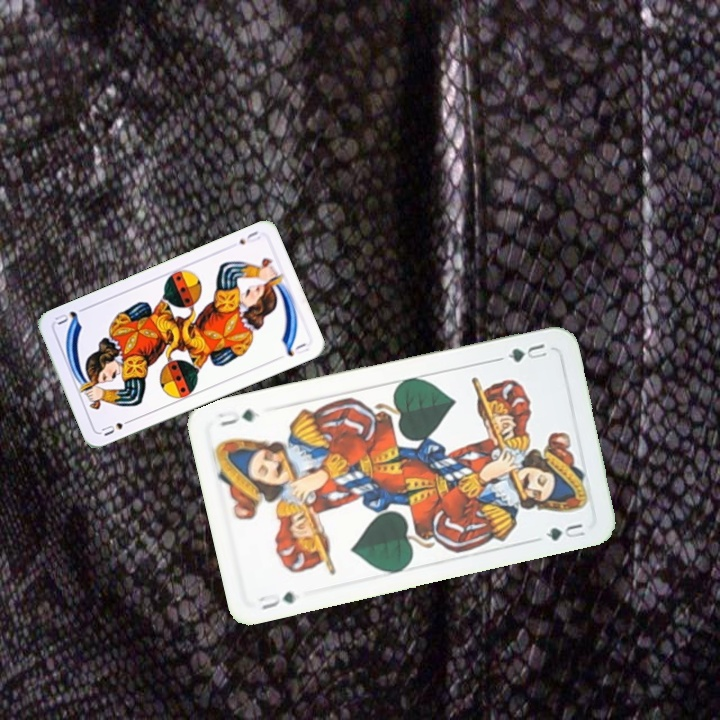GU: (494, 339, 550, 365), (255, 587, 299, 612)
SU: (97, 415, 136, 439), (235, 227, 263, 247)
